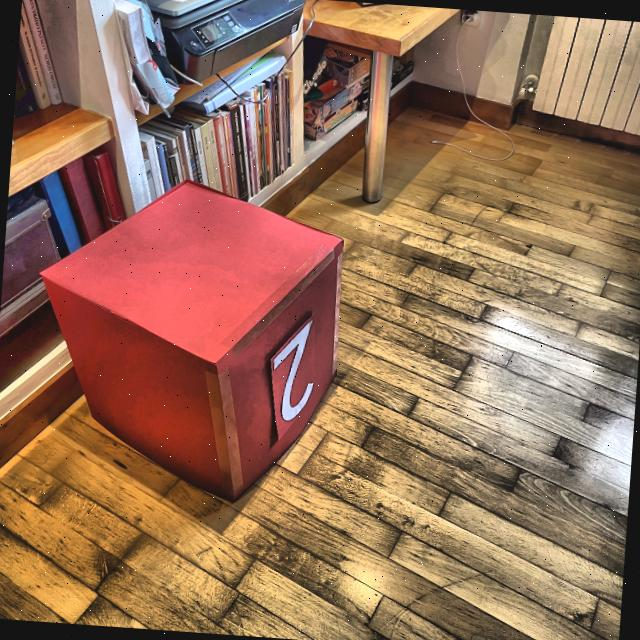red box: (24, 167, 350, 508)
two: (264, 314, 322, 424)
